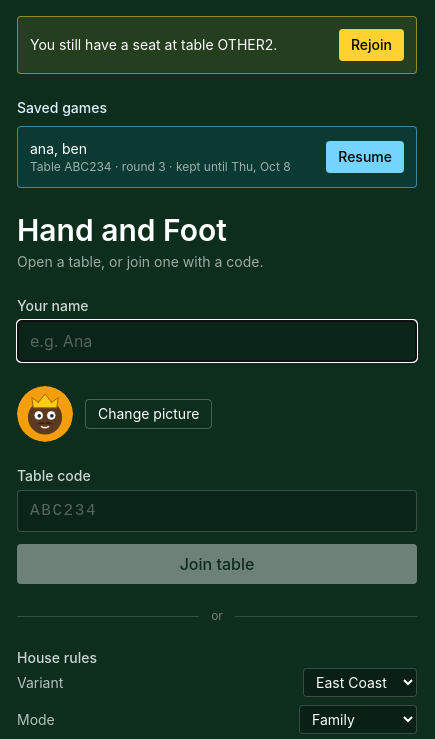
Test: a game saved for later › is forgotten, with a notice, when it is no longer there to go back to
The width and height of the screenshot is (435, 739).
Click the button with aria-label "Resume the game at table ABC234": (365, 157) x1=326 y1=141 x2=404 y2=173
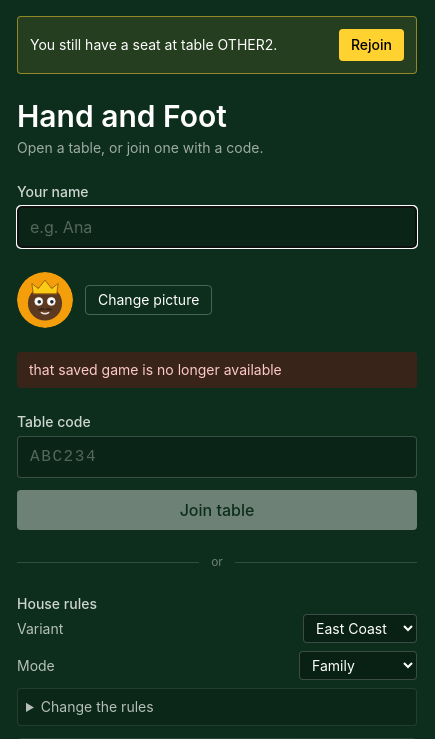
Result: the message reads "that saved game is no longer available" at x1=29 y1=361 x2=282 y2=378
Result: the heading "Saved games" is gone
